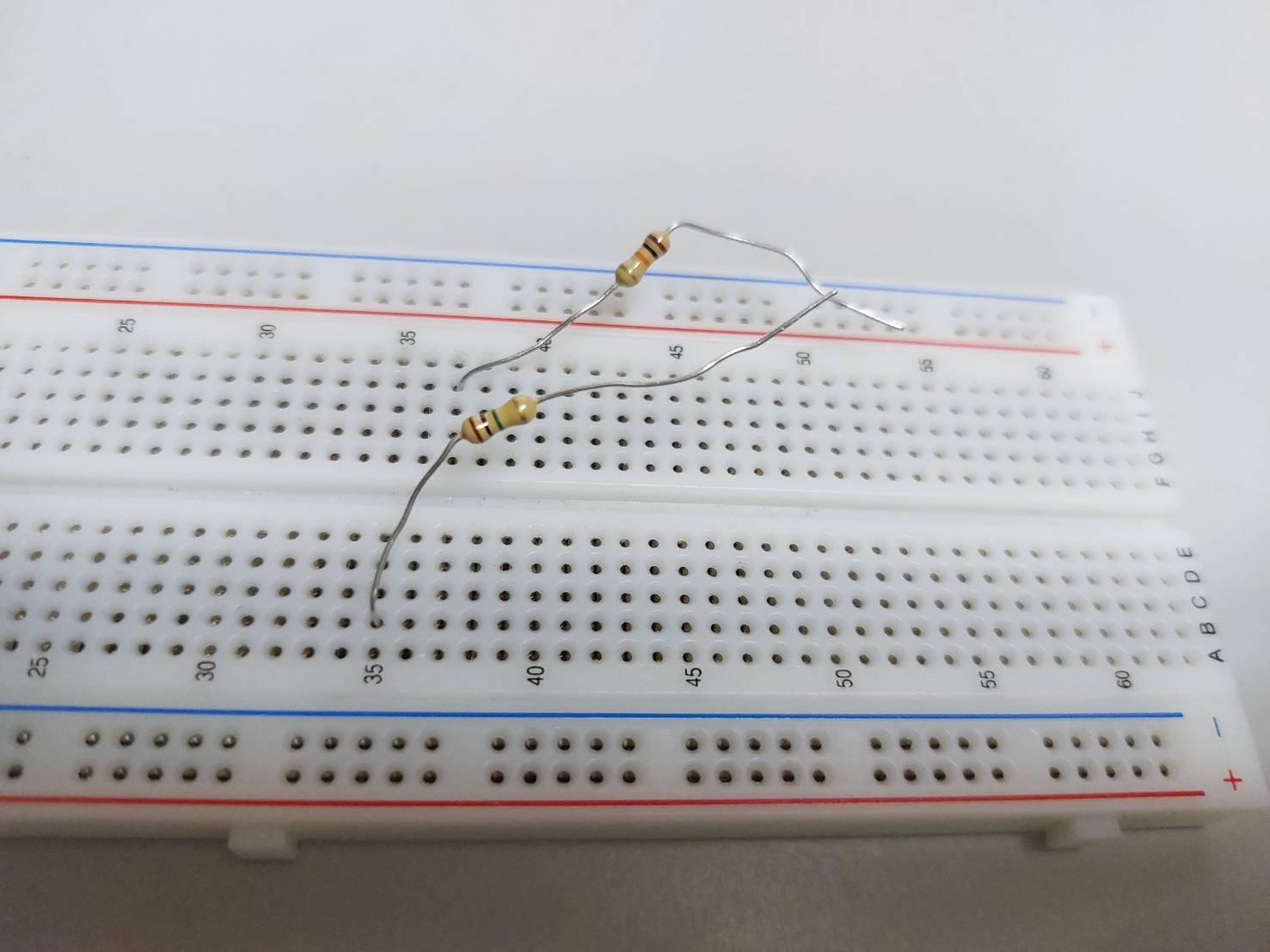resistor: (460, 395, 537, 442), (618, 228, 671, 287)
